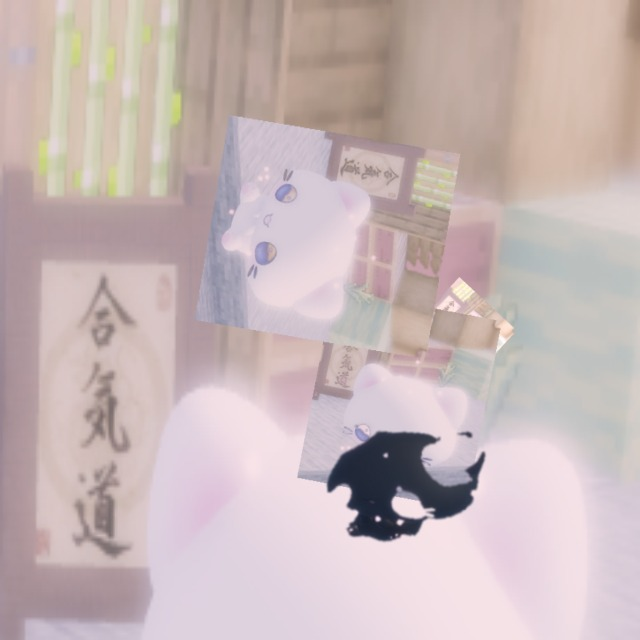urso_branco: (194, 115, 461, 359), (297, 289, 502, 510), (399, 277, 517, 395)
urso_preto: (296, 400, 515, 563)
